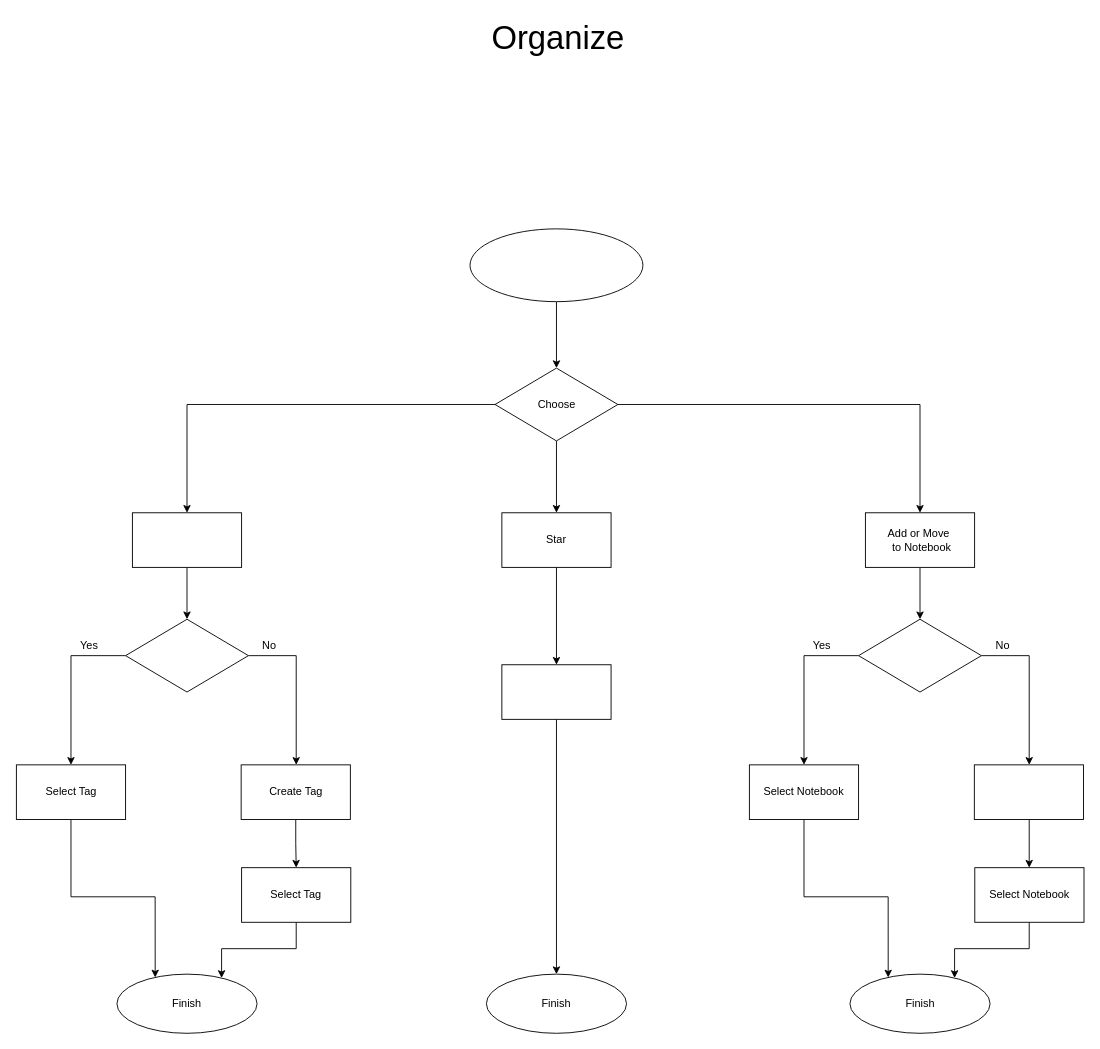
This 1100x1049 diagram has some shape labels left out. The shapes that lost their labels are listed below. From the top down, each one's box as (x1, y1, x2, y2) in pixels, then its label:
(469, 228, 643, 302): Dashboard
(131, 512, 242, 567): Tag
(125, 618, 248, 692): Tag Exists?
(858, 618, 981, 692): Notebook Exists?
(501, 664, 611, 719): Select Star
(973, 764, 1084, 819): Create Notebook
